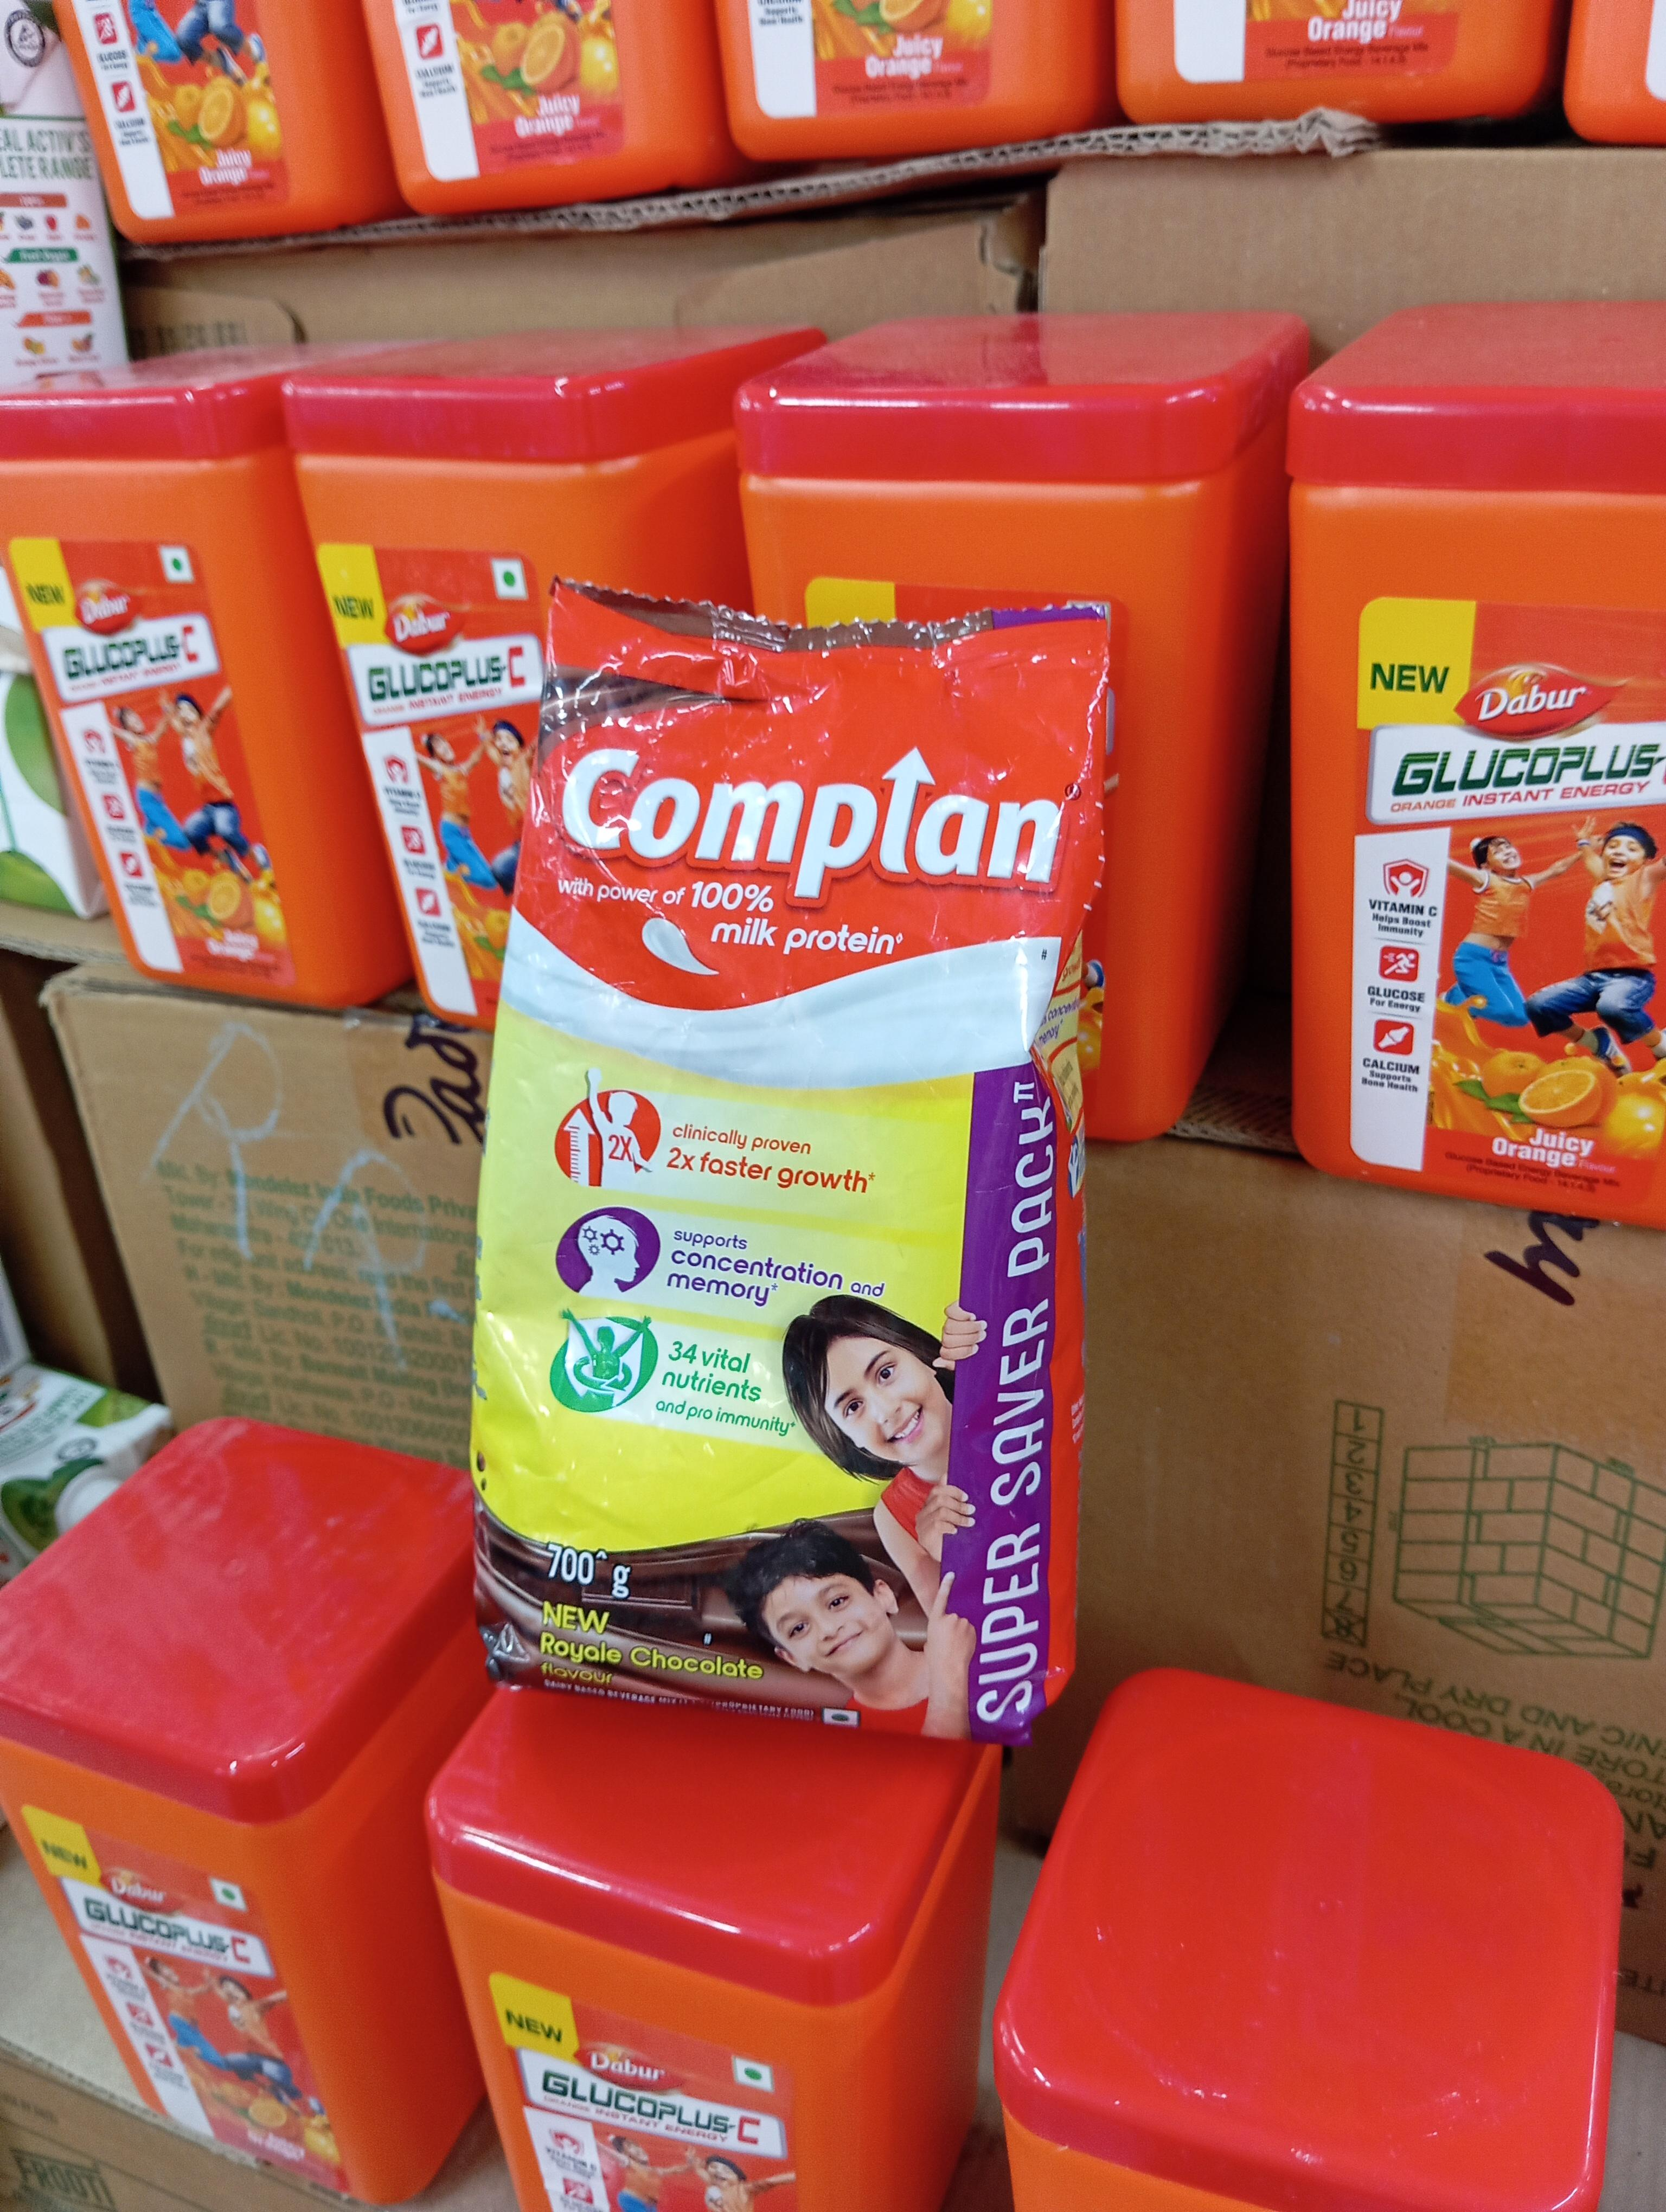COMPLAN_RC_POUCH_700_GMS_12: (506, 600, 1008, 1729)
